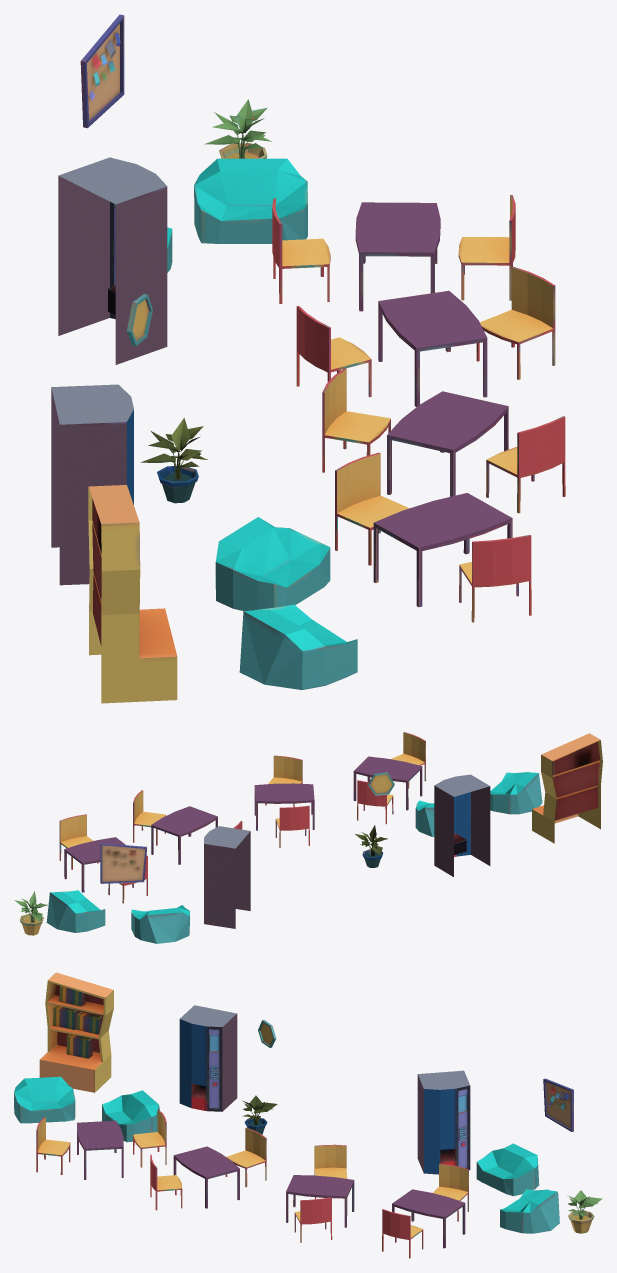
Rendered from BreakRoomAssets.FBX.
3 views of the same model, one above another, from view 1: azimuth 30°, elevation 25°; view 2: azimuth 150°, elevation 25°; view 3: azimuth 270°, elevation 25° (orthographic). The views are drawn at different scales.
Parts seen in each view (by area): view 1: BreakRoomAssets; view 2: BreakRoomAssets; view 3: BreakRoomAssets.
Boxes of the visible parts, <box> form: BreakRoomAssets: <box>51,14,565,703</box>; BreakRoomAssets: <box>14,732,602,943</box>; BreakRoomAssets: <box>14,972,602,1258</box>.
Size of the model in its own units: 2598 by 683 by 3356.
Materials: 1 (1 with a texture image).
